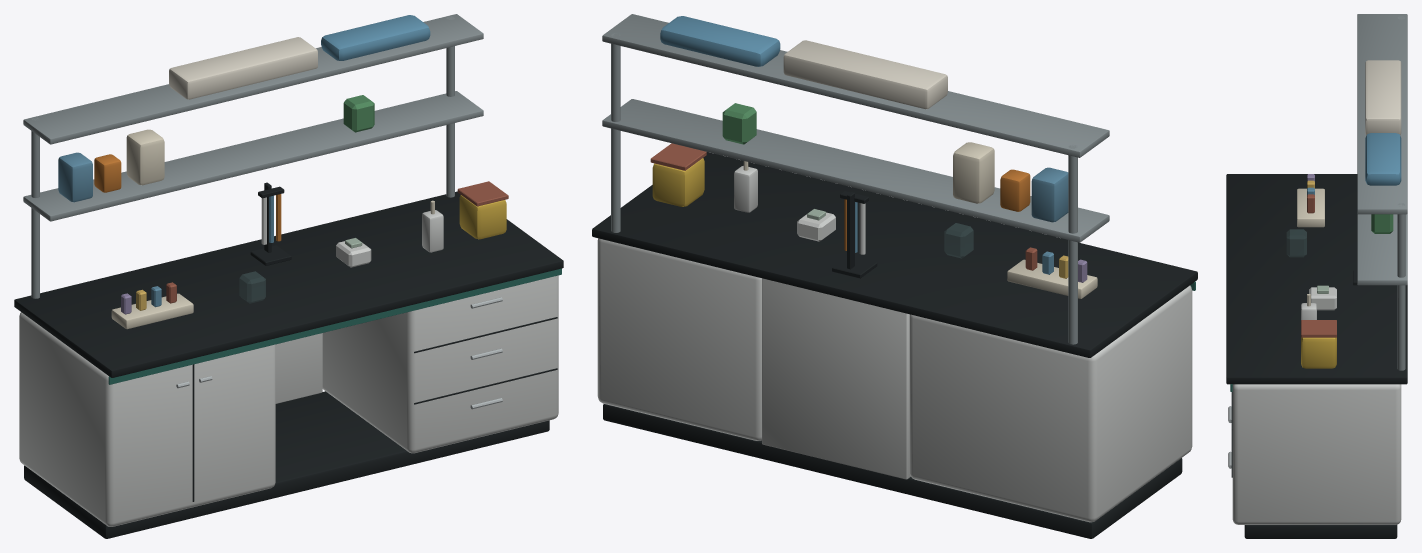
The model's file is lab-bench.glb.
3 renders of one model, left to right at view 1: azimuth 30°, elevation 25°; view 2: azimuth 150°, elevation 25°; view 3: azimuth 270°, elevation 25°, orthographic. The views are drawn at different scales.
Parts seen in each view (by area): view 1: lab-bench; view 2: lab-bench; view 3: lab-bench.
Part boxes in pixels (<box>): lab-bench: <box>14,14,563,538</box>; lab-bench: <box>592,14,1197,538</box>; lab-bench: <box>1226,14,1407,538</box>.
Bounding box in the file's own units: 2.4 × 1.9 × 0.9.
